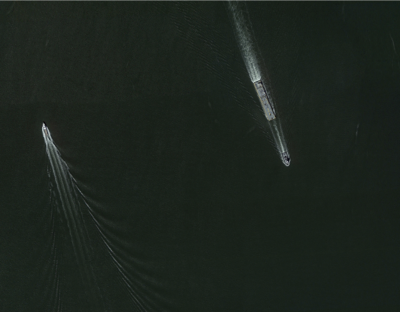boat: (283, 152, 291, 166), (43, 123, 49, 136)
